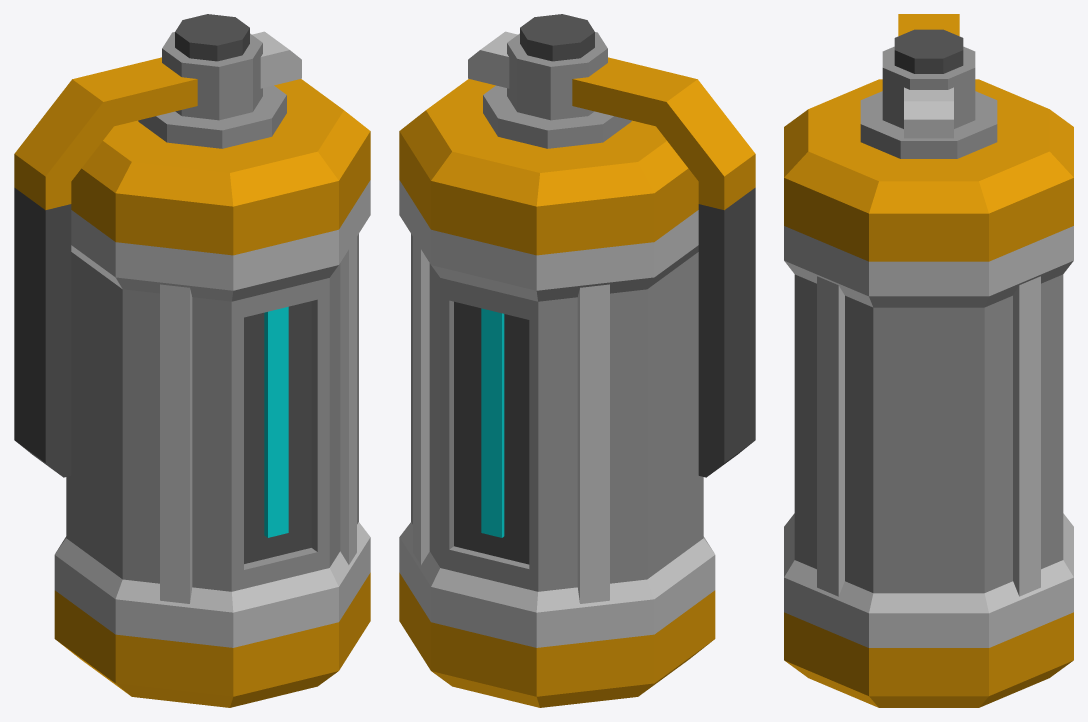
The model's file is SM_Grenade01.fbx.
3 views of the same model, side by side, from view 1: azimuth 30°, elevation 25°; view 2: azimuth 150°, elevation 25°; view 3: azimuth 270°, elevation 25° (orthographic).
Parts seen in each view (by area): view 1: SM_Grenade01; view 2: SM_Grenade01; view 3: SM_Grenade01.
Part boxes in pixels (box(x1,y1,x2,y2)): SM_Grenade01: box(14, 14, 370, 707); SM_Grenade01: box(399, 14, 755, 707); SM_Grenade01: box(784, 14, 1073, 707).
Size of the model in its own units: 6.24 by 11.98 by 5.14.
